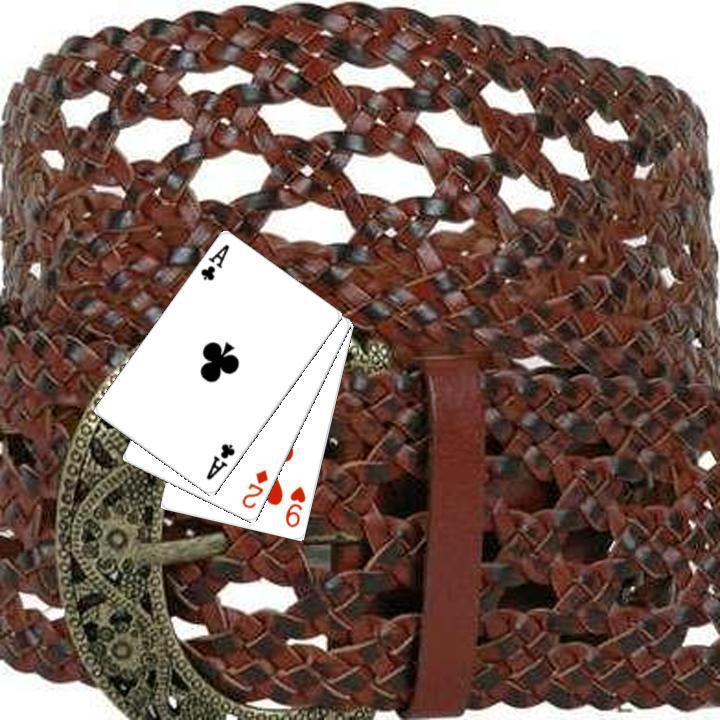2: (237, 466, 270, 511)
9: (281, 482, 308, 530)
A: (201, 439, 237, 482), (196, 240, 232, 283)
